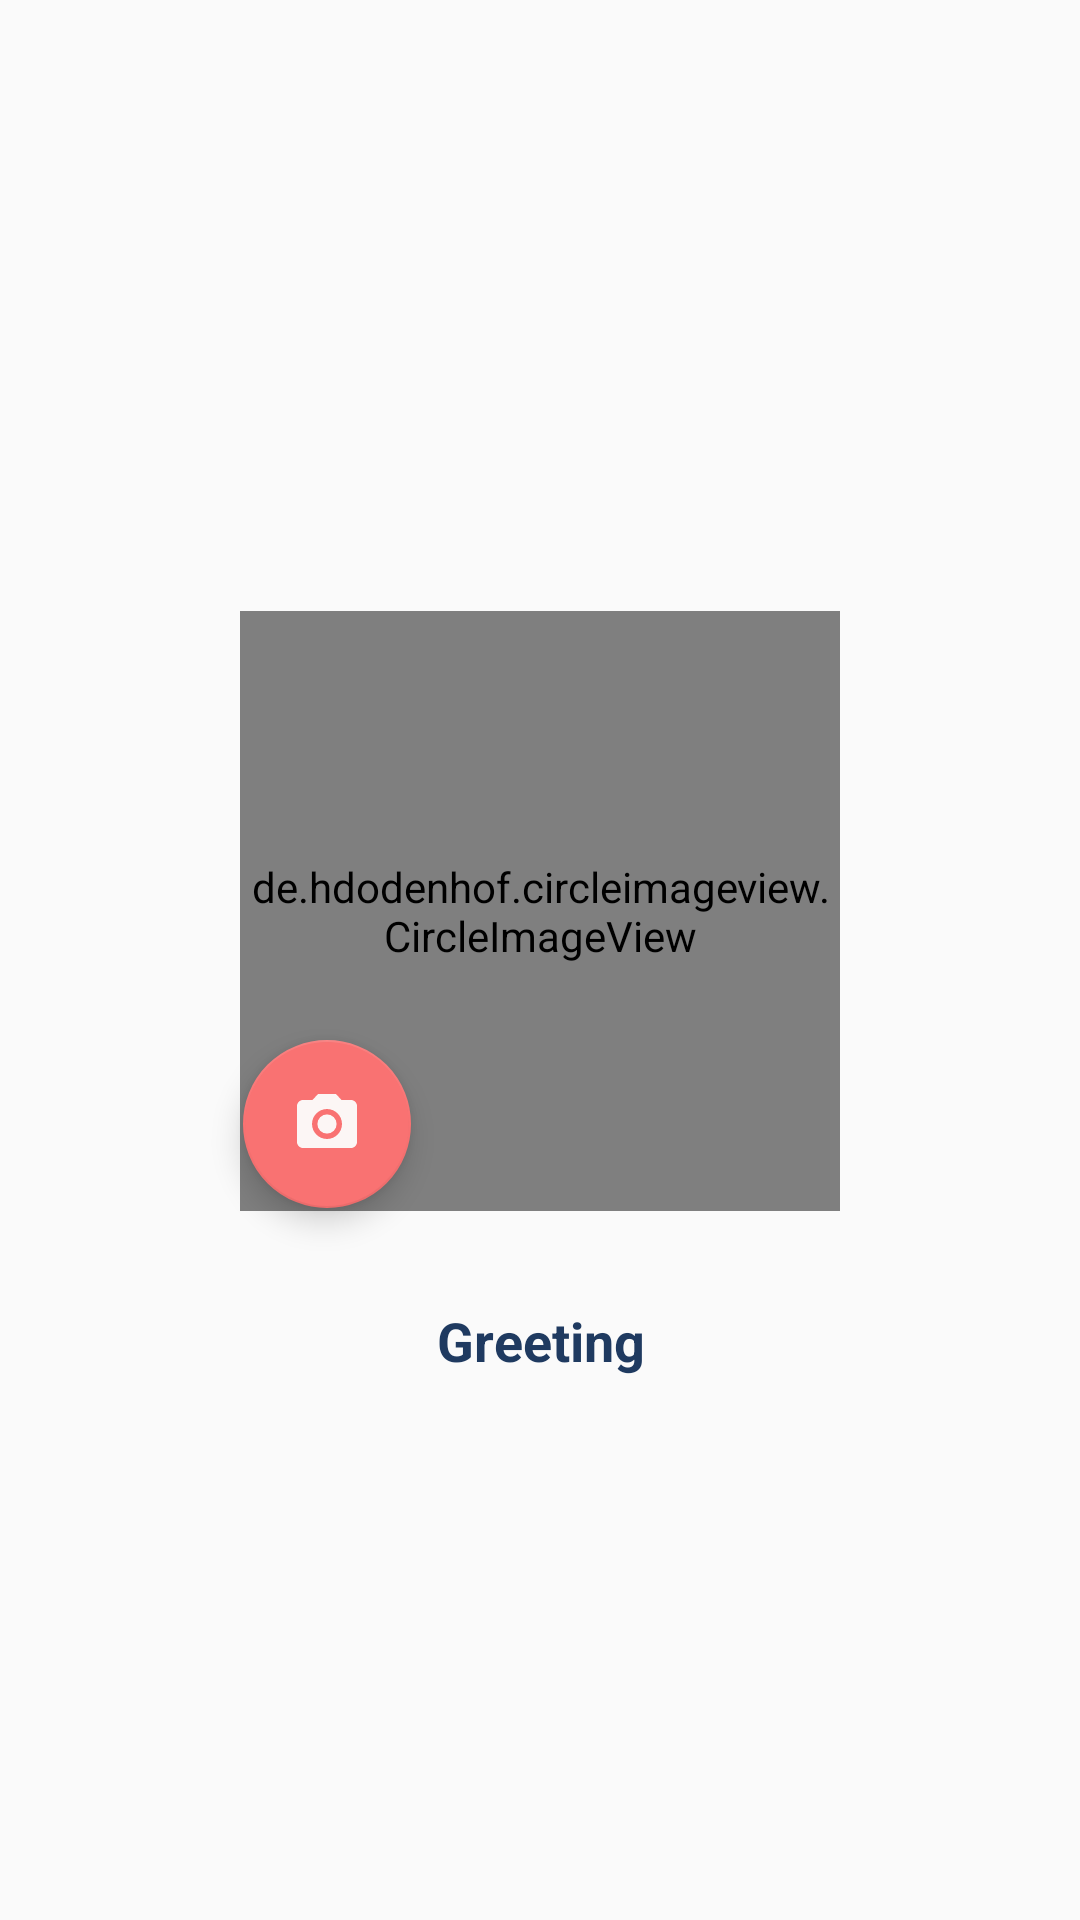

Where to tap for icons on this 1080×1920 app screen, as [x,y]:
camera: [327,1124]
